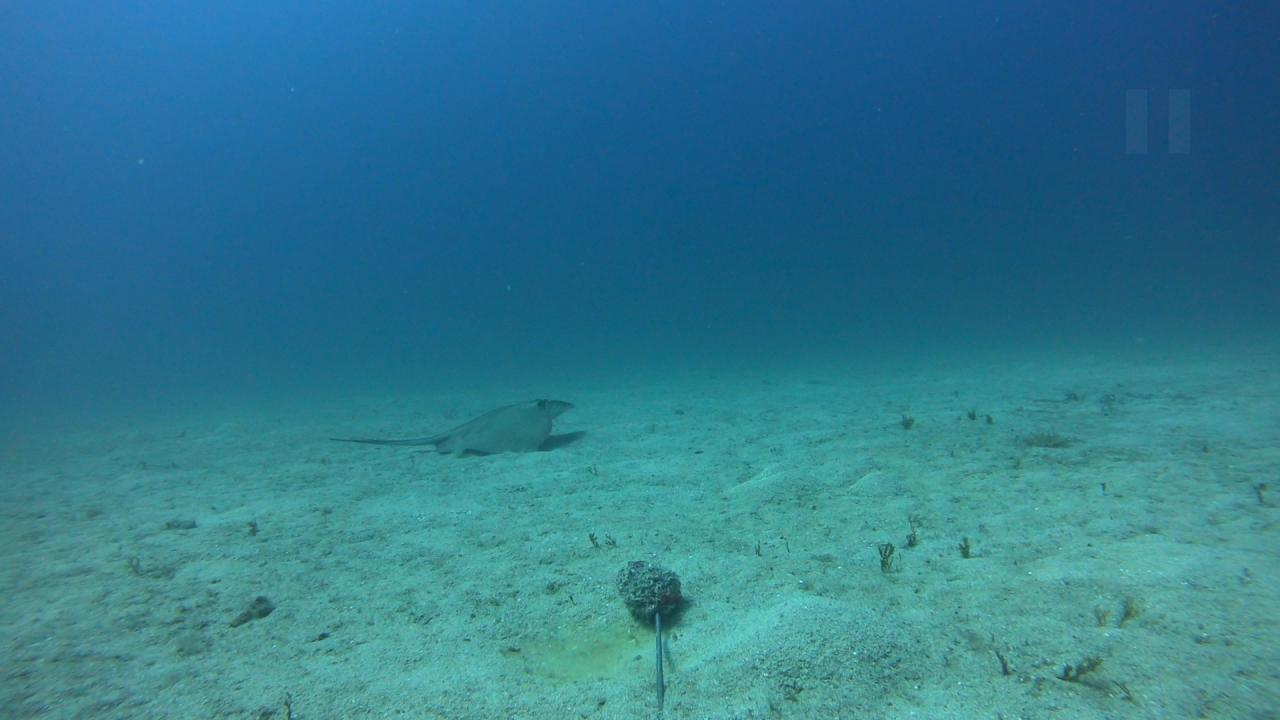dasyatis: (326, 397, 576, 458)
